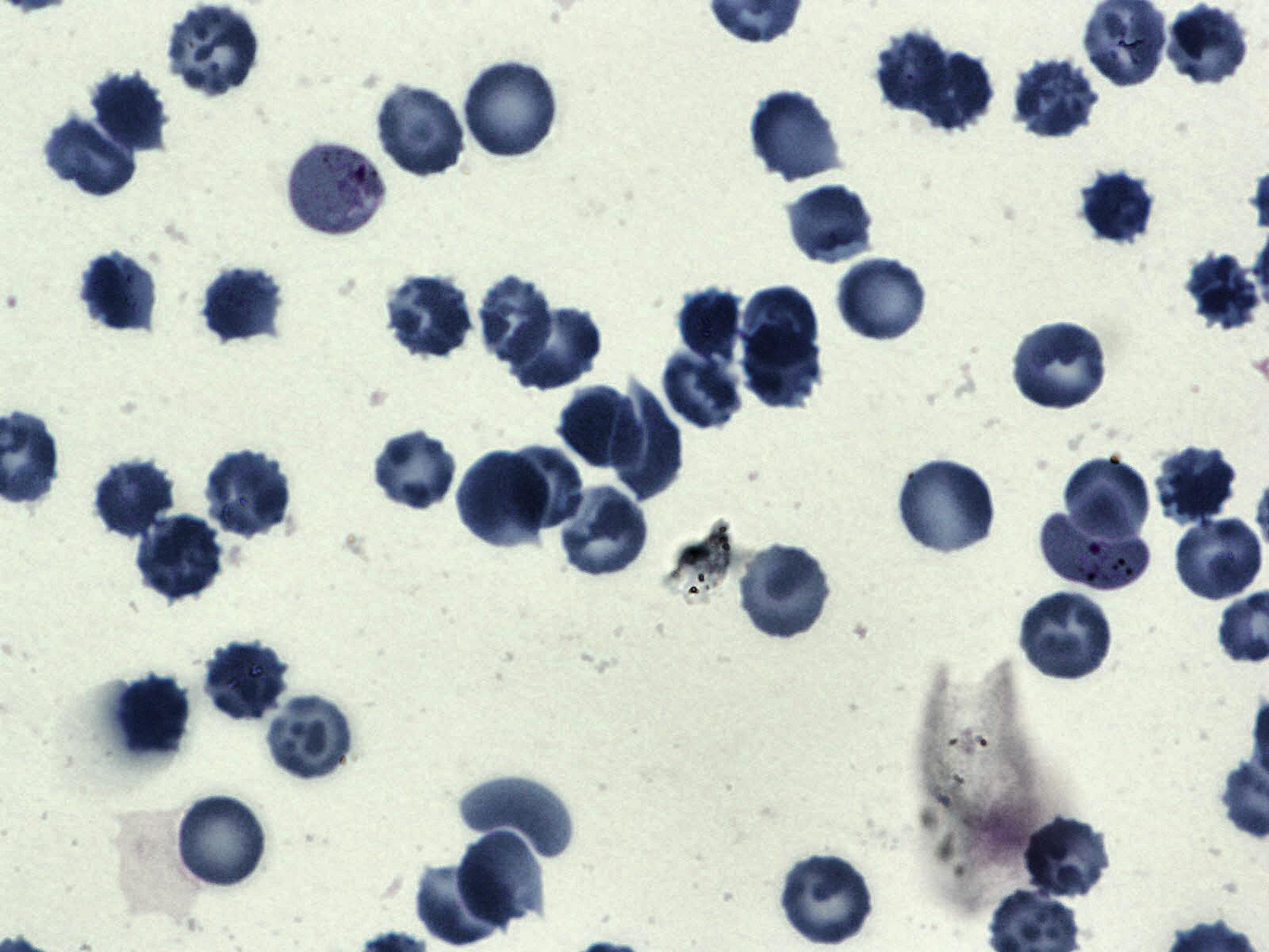Infected: (1041, 487, 1148, 589), (287, 143, 384, 237)
Uninfected: (462, 56, 559, 160), (898, 457, 998, 556), (462, 774, 575, 859), (174, 791, 269, 889), (779, 851, 874, 949), (608, 381, 683, 501), (165, 3, 261, 96), (556, 486, 650, 580), (739, 544, 831, 640), (1012, 321, 1107, 412), (459, 450, 546, 547), (507, 306, 604, 393), (375, 86, 466, 178), (260, 690, 350, 782), (734, 320, 823, 413), (1020, 591, 1114, 679), (750, 91, 839, 182), (201, 451, 293, 538), (835, 256, 929, 341), (1174, 516, 1265, 601), (454, 831, 535, 926), (416, 869, 511, 949), (46, 112, 136, 196), (1021, 816, 1110, 900), (1067, 457, 1152, 541), (476, 274, 552, 367), (502, 446, 588, 528), (139, 516, 224, 598), (386, 276, 472, 357), (1167, 2, 1248, 88), (373, 431, 458, 512), (203, 639, 288, 720), (561, 386, 642, 470), (788, 184, 872, 263), (913, 50, 995, 130), (1014, 58, 1098, 136), (661, 351, 743, 430), (1158, 444, 1236, 527), (740, 284, 816, 368), (82, 250, 159, 332), (876, 29, 951, 113), (93, 461, 174, 538), (114, 674, 190, 756), (94, 69, 167, 152), (203, 264, 280, 340), (1183, 253, 1259, 330), (1080, 167, 1155, 245), (678, 284, 743, 368)
